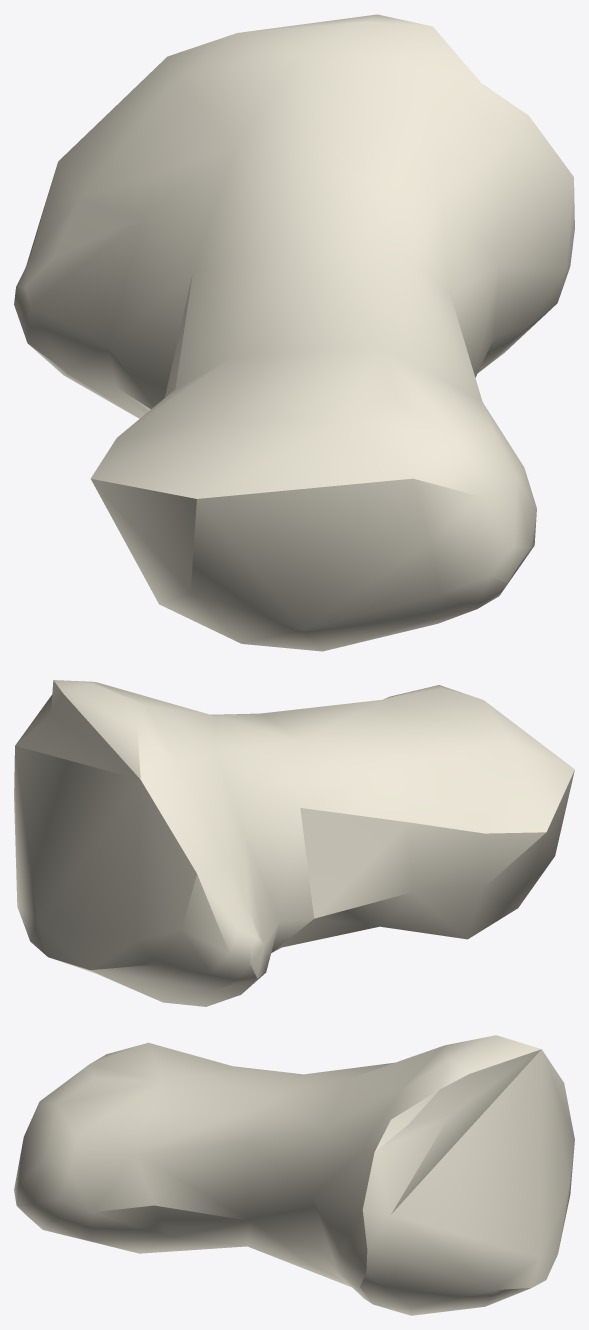
Rendered from fma32652_fj3179m.glb.
3 renders of one model, top to bottom at view 1: azimuth 30°, elevation 25°; view 2: azimuth 150°, elevation 25°; view 3: azimuth 270°, elevation 25°, orthographic. The views are drawn at different scales.
Visible parts, largest first — view 1: FMA32652_FJ3179M; view 2: FMA32652_FJ3179M; view 3: FMA32652_FJ3179M.
Part boxes in pixels (left/top/right/bottom): FMA32652_FJ3179M: left=14, top=14, right=574, bottom=651; FMA32652_FJ3179M: left=14, top=680, right=574, bottom=1006; FMA32652_FJ3179M: left=14, top=1035, right=574, bottom=1315.
Size of the model in its own units: 0.0112 by 0.00713 by 0.013.
